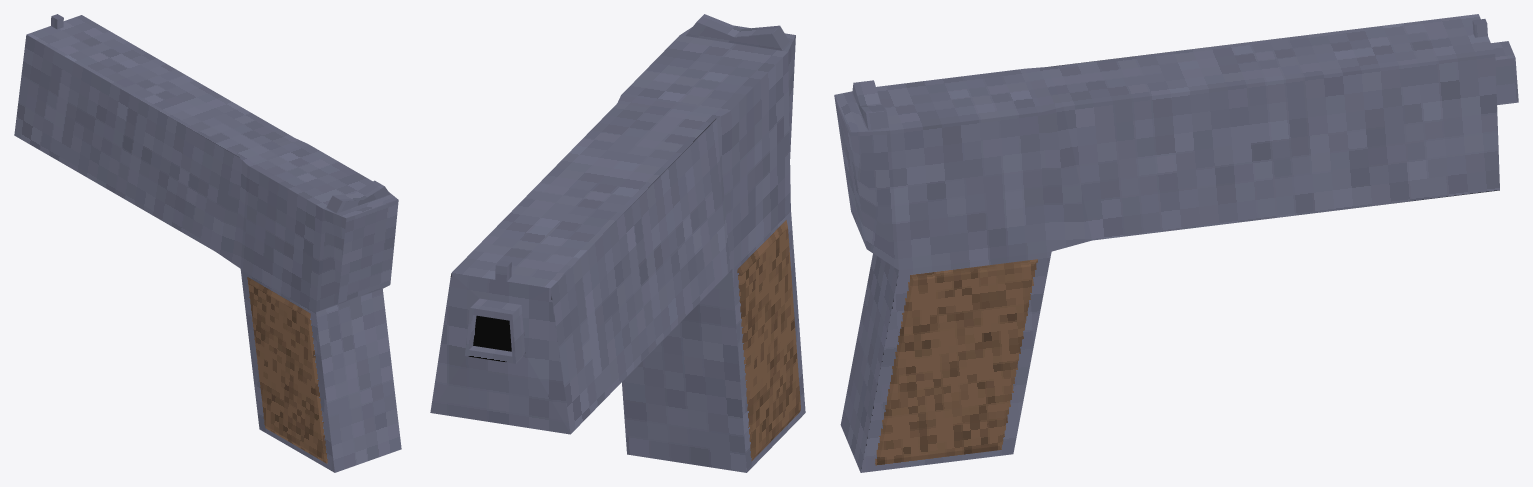
Rendered from gun_model_anim.glb.
3 renders of one model, left to right at view 1: azimuth 30°, elevation 25°; view 2: azimuth 150°, elevation 25°; view 3: azimuth 270°, elevation 25°, orthographic. The views are drawn at different scales.
Visible parts, largest first — view 1: gun; view 2: gun; view 3: gun.
Boxes of the visible parts, x1,y1,x2,y2 form: gun: (14, 14, 401, 472); gun: (430, 14, 805, 472); gun: (834, 14, 1518, 472).
Size of the model in its own units: 0.235 by 0.419 by 0.683.
3 materials, 3 textured.
